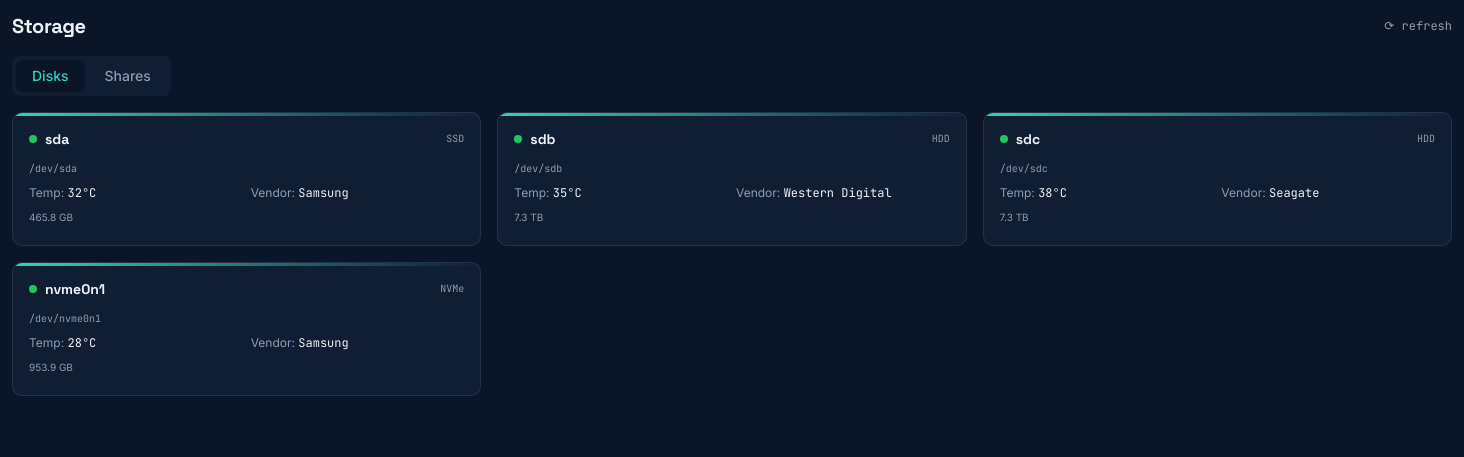
Test: StoragePage › shows shares tab
The width and height of the screenshot is (1464, 457).
Expected: the text "sda" is shown, [45,129,69,149]
What coordinates should you click on to do the following:
click the button "Shares"
I would click on:
 (128, 76)
Its box is [88,60,167,92].
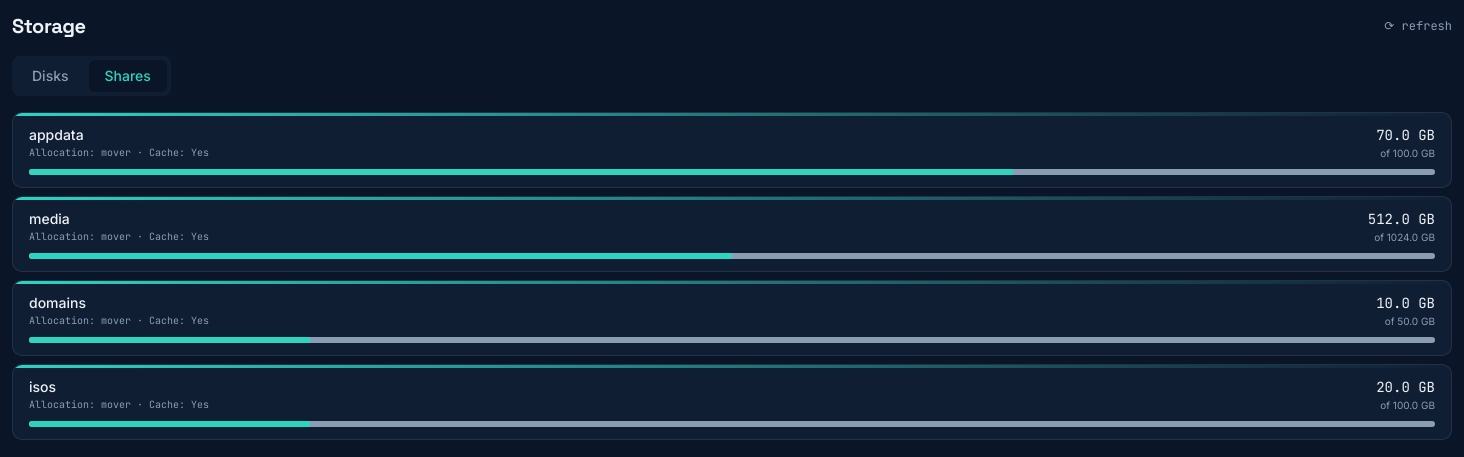
Expected: the text "appdata" is shown, [29,126,84,143]
Expected: the text "media" is shown, [29,210,70,227]
